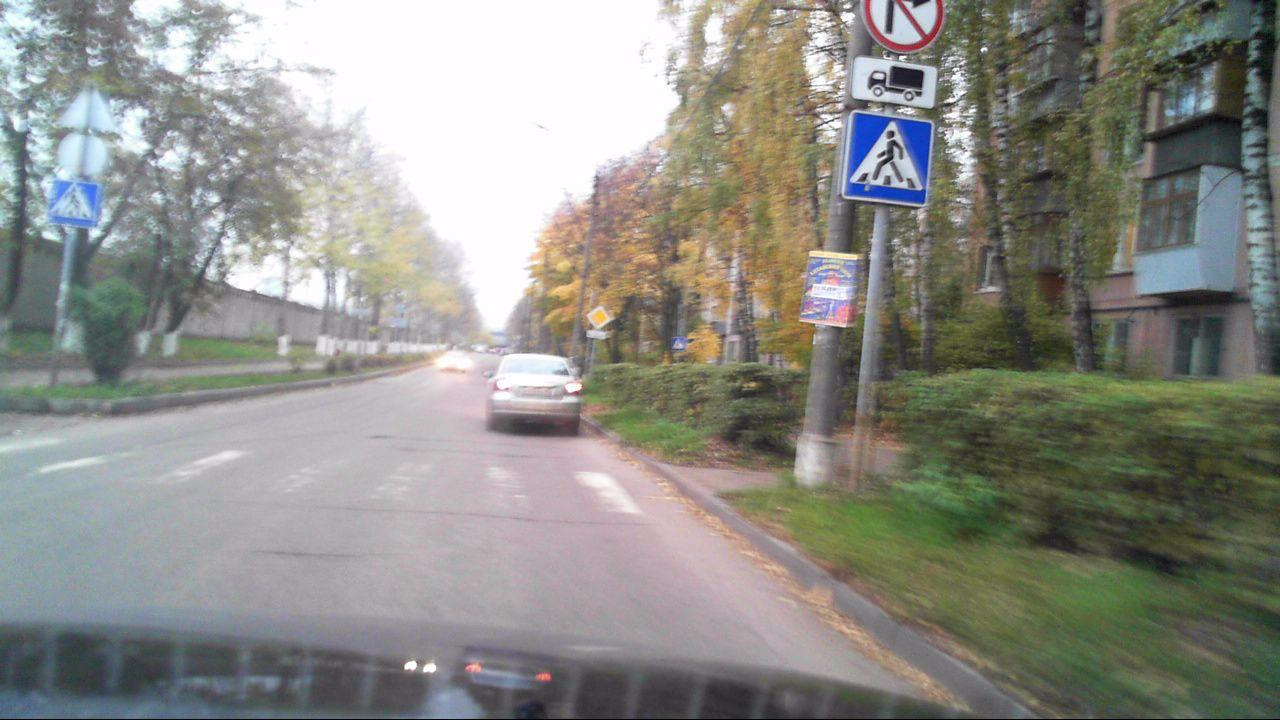3_18_1: (863, 0, 943, 52)
5_19_1: (841, 109, 935, 207)
5_19_2: (45, 178, 100, 226)
8_4_1: (850, 57, 937, 109)
